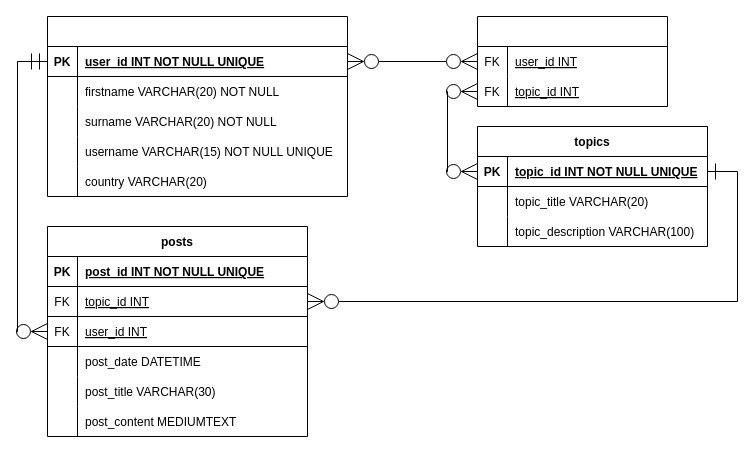
Image size: 754x453. Some labels were removed from this diagram. The shapes that lost their labels are listed below. From the top down, each one's box as (x1, y1, x2, y2) in pixels, then its label:
(476, 16, 668, 106): membership
(46, 16, 348, 196): users
